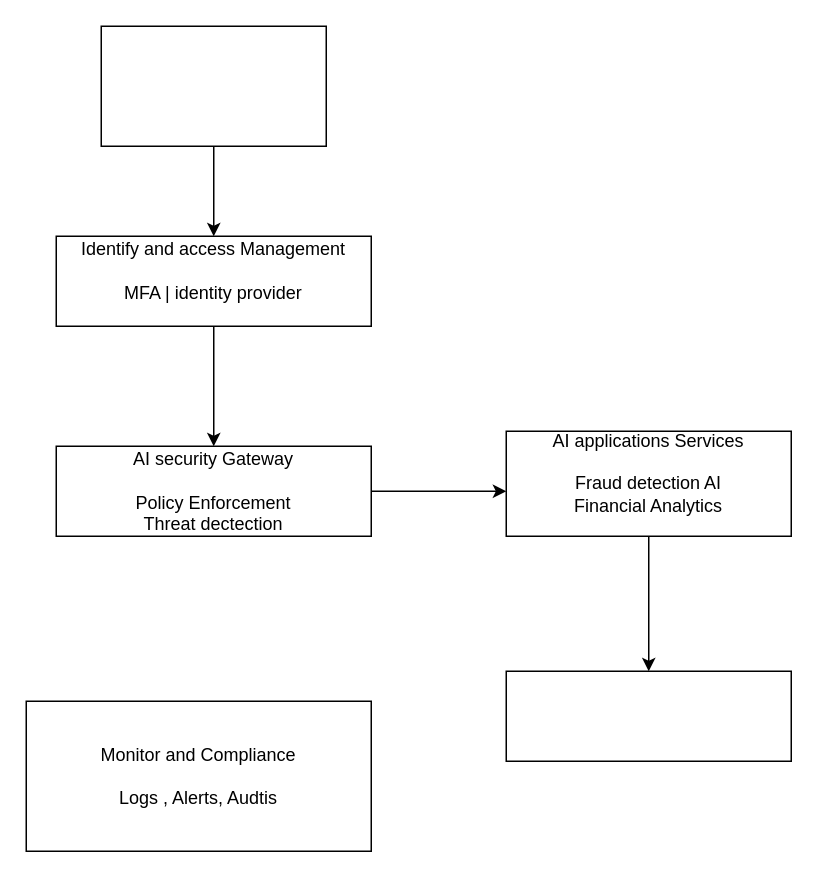
The diagram is 818 pixels wide and 878 high, and some of its shapes have lost their labels. Each missing label, with the centre of its shape:
"Secure Data and Storage Encrypted Financial Databases" belongs at [648,715].
"Users/ Client Applications Customers Bank Employees FinTech Applications" belongs at [213,85].
